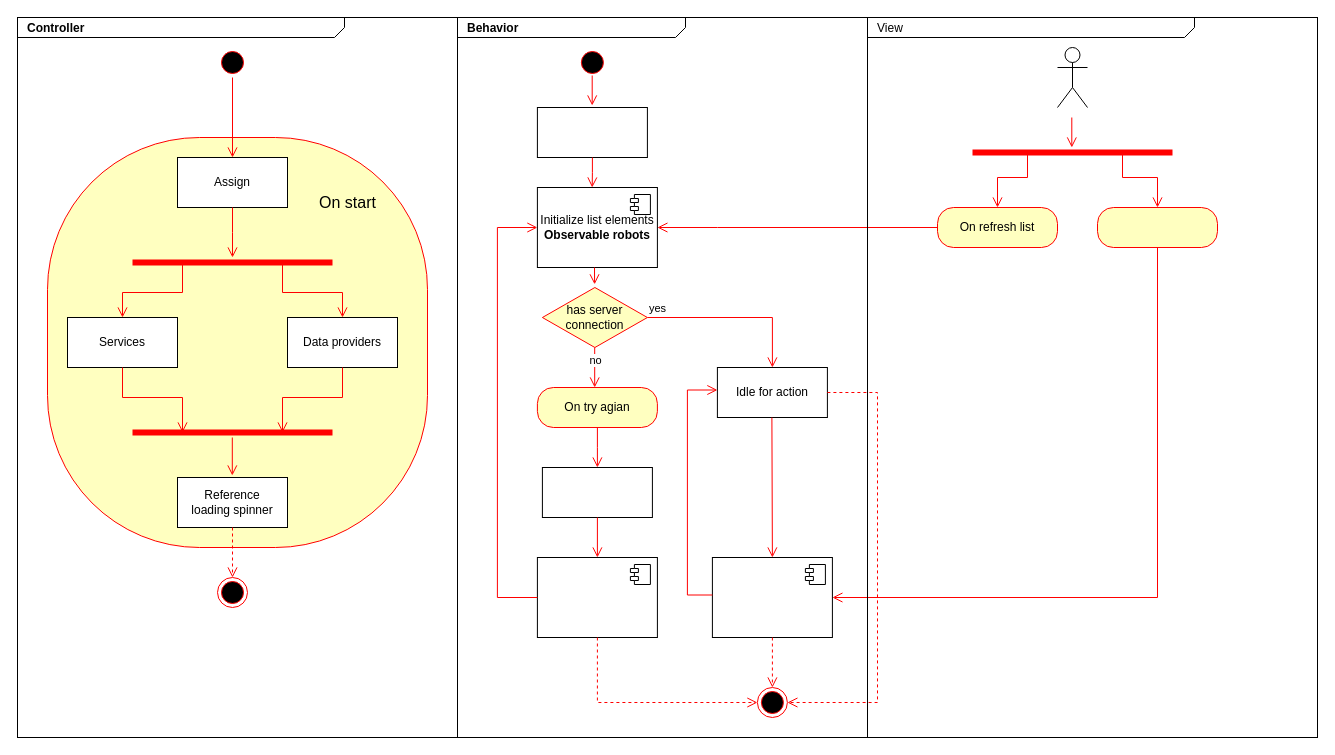
Image size: 1335x755. Some labels were removed from this diagram. Here are the shapes that lost their labels. From the top down, the centre of each, then its label:
At [1072,77]: "Actor".
At [591,132]: "Create components references".
At [1157,227]: "On robot select".
At [596,492]: "Call for server data".
At [596,597]: "Destroy list enries Observable robots".
At [771,597]: "On select Observable robots".
